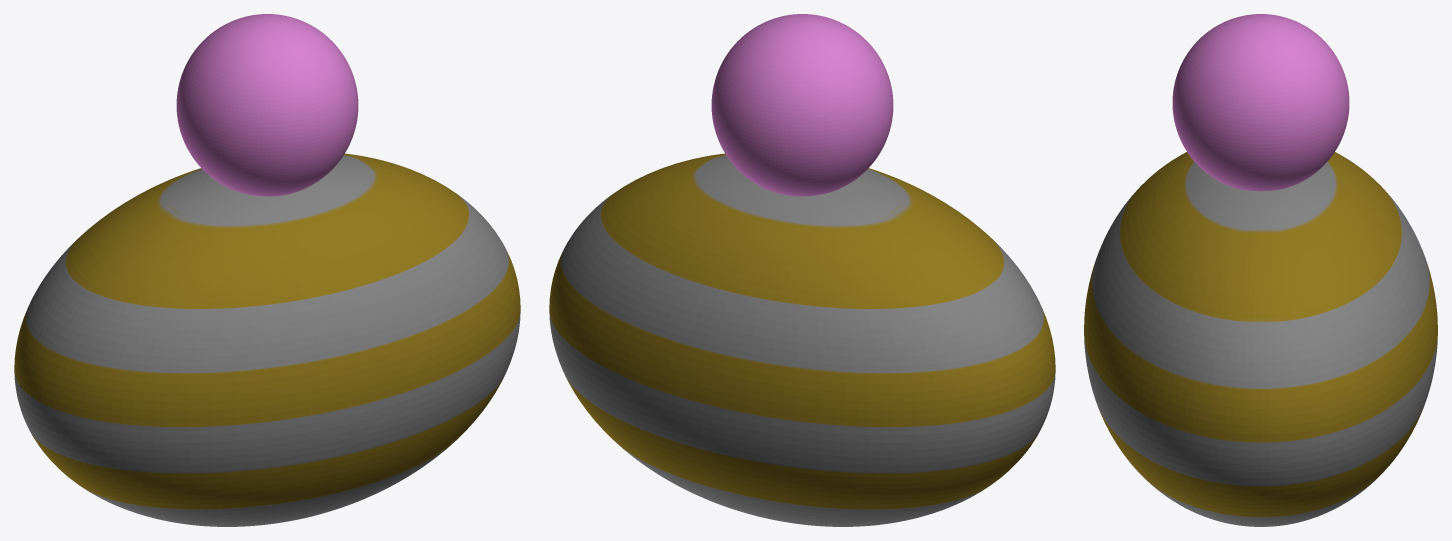
File: BOD1_BMC4_BCC0_BPT2_FRC0_HEA0_HMC10_HCC0_HPT0_ELT0_ERT0_ELL0_ERL0_AP0_AAL0_AAR0_BEK0.fbx
3 views of the same model, side by side, from view 1: azimuth 30°, elevation 25°; view 2: azimuth 150°, elevation 25°; view 3: azimuth 270°, elevation 25° (orthographic). The views are drawn at different scales.
Parts seen in each view (by area): view 1: Body, Head; view 2: Body, Head; view 3: Body, Head.
Part boxes in pixels (left/top/right/bottom): Body: left=14, top=153, right=520, bottom=526; Head: left=176, top=14, right=358, bottom=196; Body: left=549, top=153, right=1055, bottom=526; Head: left=711, top=14, right=893, bottom=196; Body: left=1084, top=152, right=1437, bottom=526; Head: left=1172, top=14, right=1349, bottom=191.
Size of the model in its own units: 148 by 145 by 98.72.
2 materials, 2 textured.
